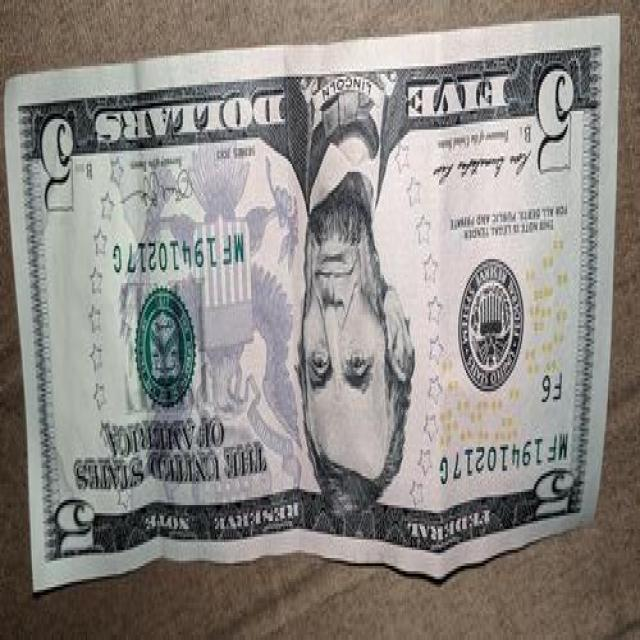5-Front: (4, 10, 621, 598)
